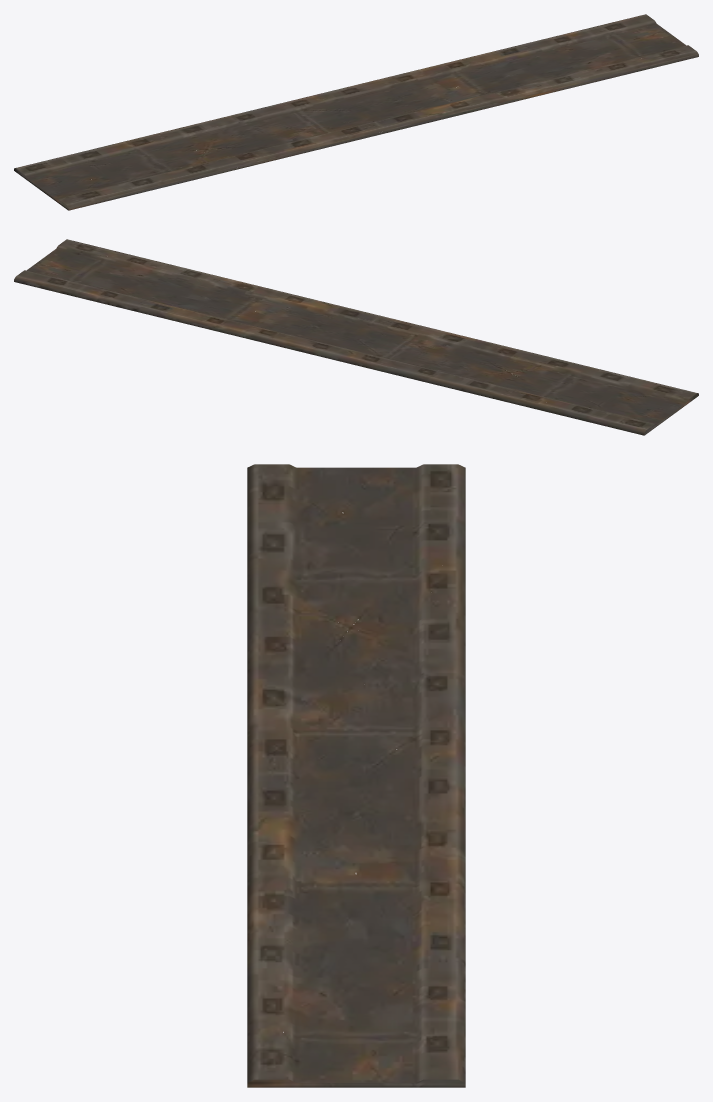
3 views of the same model, one above another, from view 1: azimuth 30°, elevation 25°; view 2: azimuth 150°, elevation 25°; view 3: azimuth 270°, elevation 25° (orthographic). The views are drawn at different scales.
Parts seen in each view (by area): view 1: SM_DR_FloorInlay_4m_Str_02_LOD0; view 2: SM_DR_FloorInlay_4m_Str_02_LOD0; view 3: SM_DR_FloorInlay_4m_Str_02_LOD0.
Boxes of the visible parts, x1,y1,x2,y2 form: SM_DR_FloorInlay_4m_Str_02_LOD0: [14, 14, 698, 210]; SM_DR_FloorInlay_4m_Str_02_LOD0: [14, 239, 698, 435]; SM_DR_FloorInlay_4m_Str_02_LOD0: [247, 464, 465, 1087].
Bounding box in the file's own units: 4 × 0.0244 × 0.5999.
1 material, 1 textured.
